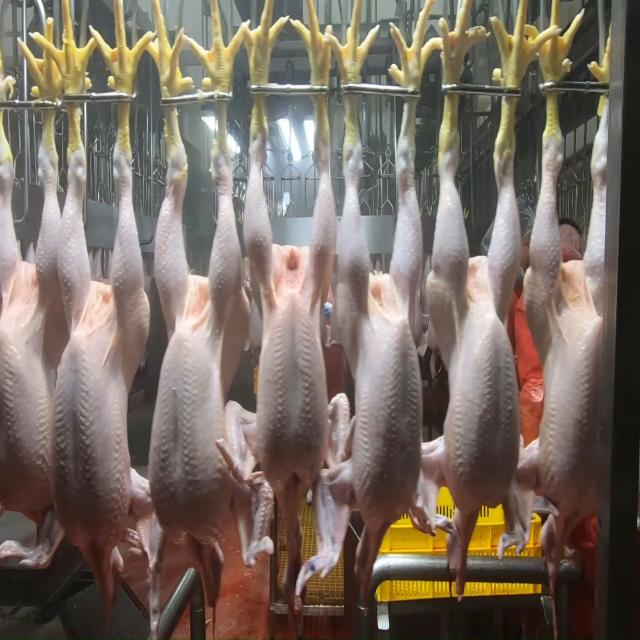chicken: (150, 157, 243, 554), (59, 159, 154, 534), (242, 156, 340, 500), (339, 162, 428, 532), (431, 167, 524, 500), (530, 169, 610, 516), (0, 153, 58, 516)
